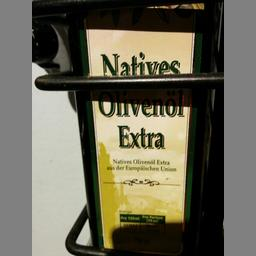oil: (66, 0, 209, 250)
